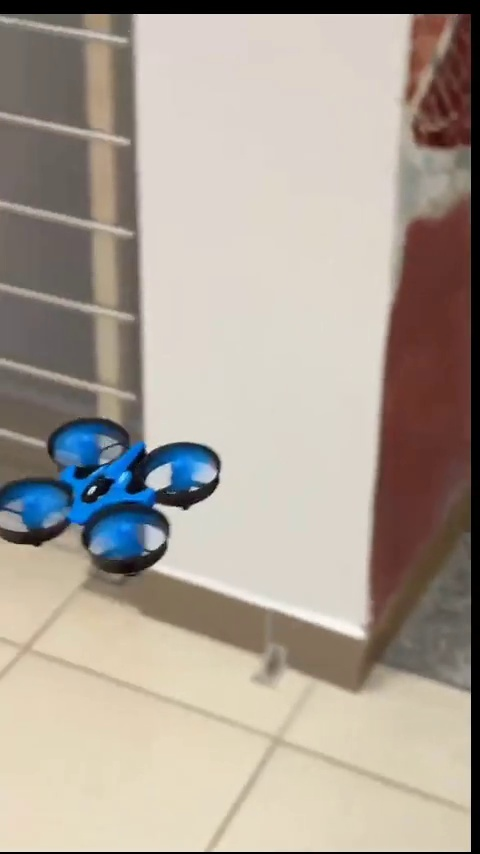drone: (2, 416, 221, 568)
